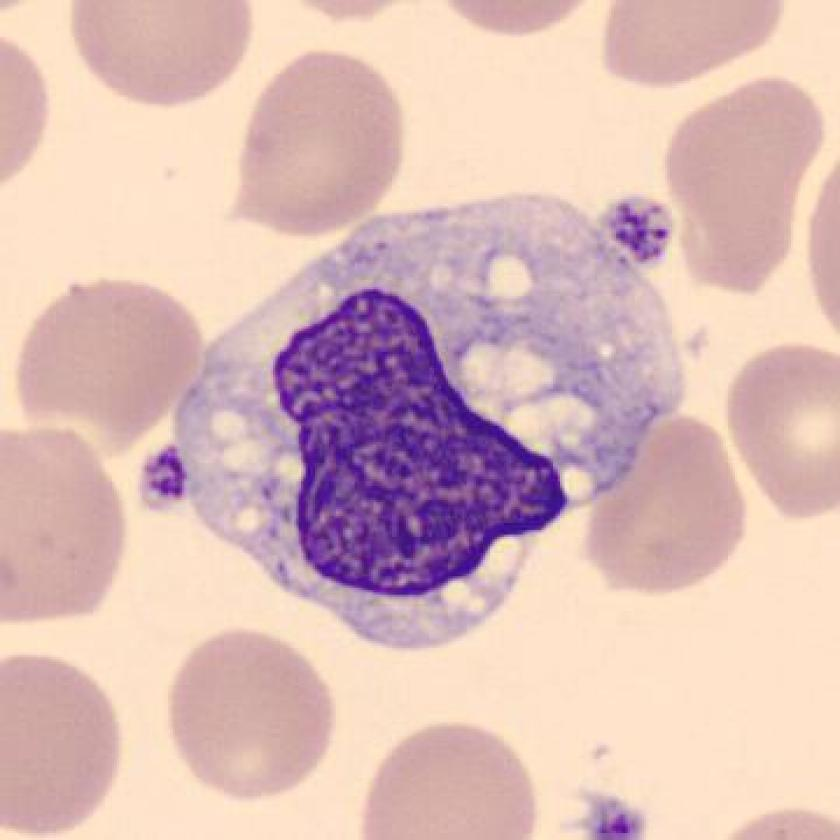monocyte: (150, 177, 715, 670)
